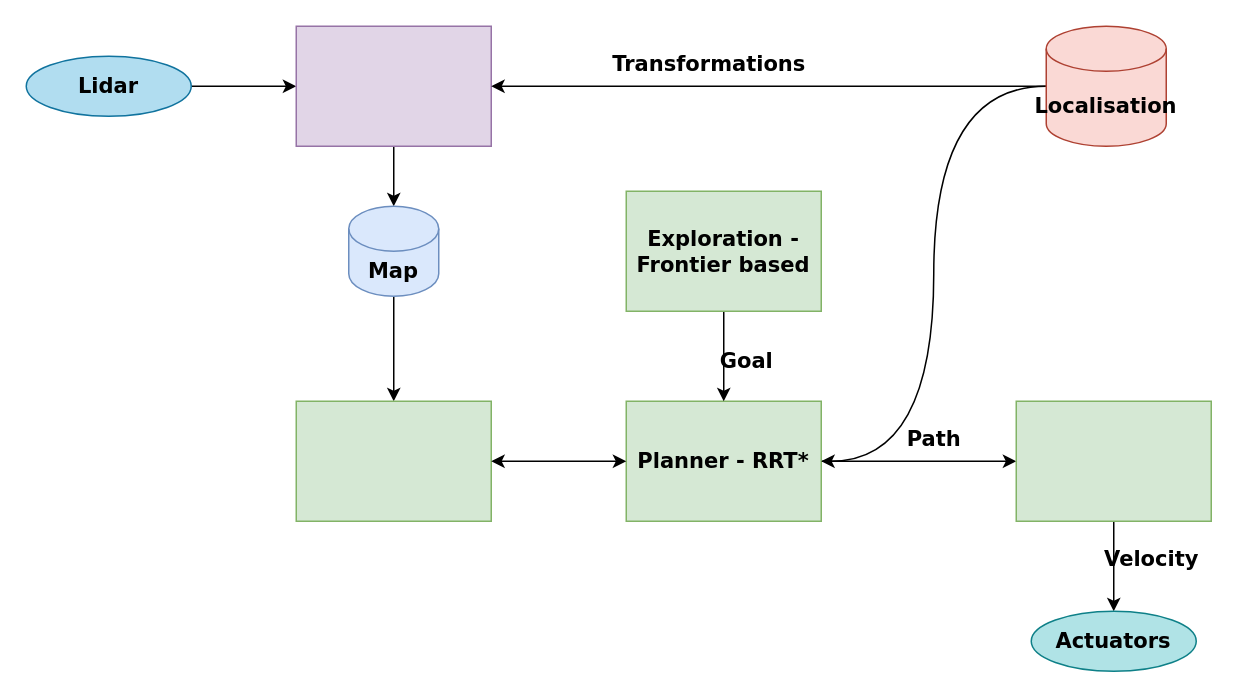
This 1238x698 diagram has some shape labels left out. The shapes that lost their labels are listed below. From the top down, each one's centre as x and y in pixels, then its label:
At pixel 393 85: "Occupancy grid mapper".
At pixel 393 460: "Path validity checker".
At pixel 1113 460: "Motion controller - DWA".
